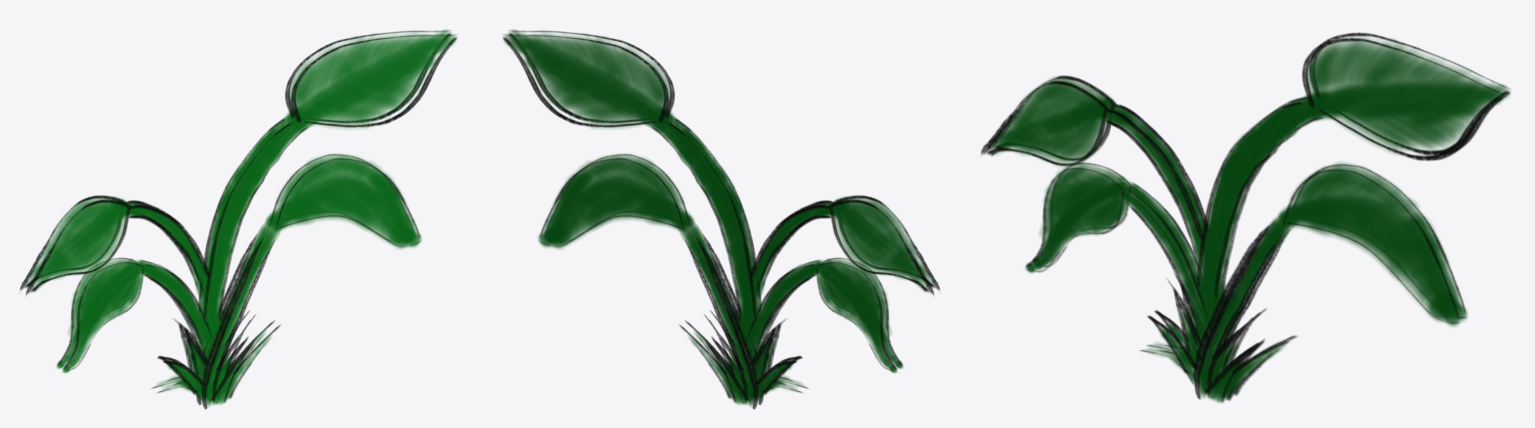
Rendered from SM_PlantProp_01.glb.
The picture shows the model from 3 angles, left to right: view 1: azimuth 30°, elevation 25°; view 2: azimuth 150°, elevation 25°; view 3: azimuth 330°, elevation 25°; orthographic projection. The views are drawn at different scales.
Visible parts, largest first — view 1: T_Plant_01; view 2: T_Plant_01; view 3: T_Plant_01.
Boxes of the visible parts, <box> form: T_Plant_01: <box>20,30,456,409</box>; T_Plant_01: <box>503,30,939,409</box>; T_Plant_01: <box>981,32,1510,402</box>.
Bounding box in the file's own units: 0.6587 × 0.4928 × 0.015.
1 material, 1 textured.
